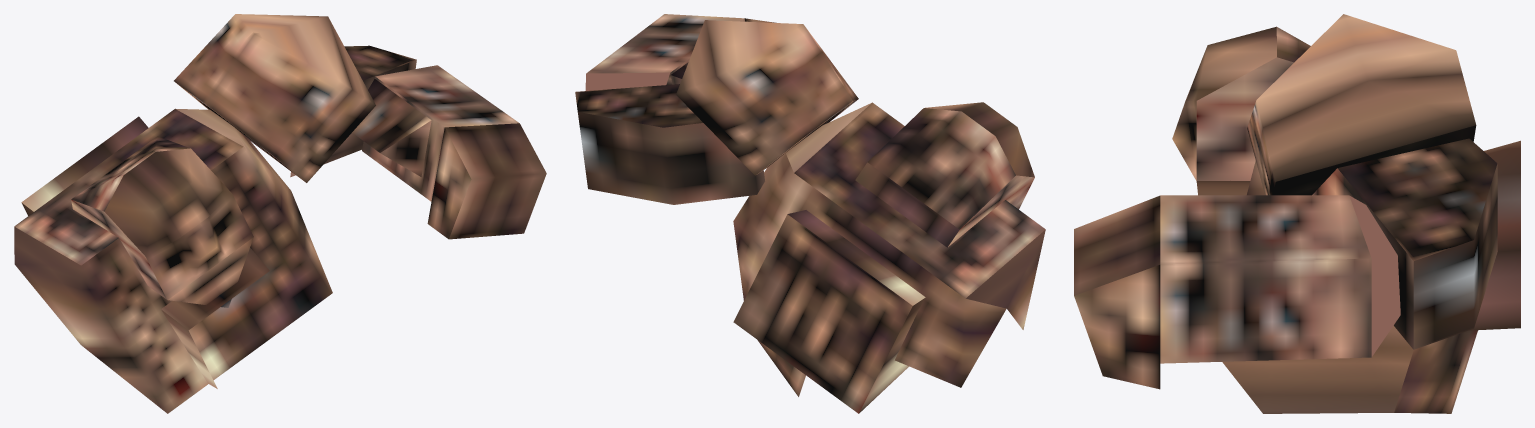
File: mechpiece_torso1.glb
3 views of the same model, side by side, from view 1: azimuth 30°, elevation 25°; view 2: azimuth 150°, elevation 25°; view 3: azimuth 270°, elevation 25° (orthographic). The views are drawn at different scales.
Parts seen in each view (by area): view 1: Object03; view 2: Object03; view 3: Object03.
Part boxes in pixels (x1=…): Object03: x1=14, y1=14, x2=546, y2=413; Object03: x1=575, y1=14, x2=1045, y2=413; Object03: x1=1074, y1=14, x2=1520, y2=413.
Size of the model in its own units: 7.89 by 5.67 by 5.42.
Materials: 1 (1 with a texture image).
